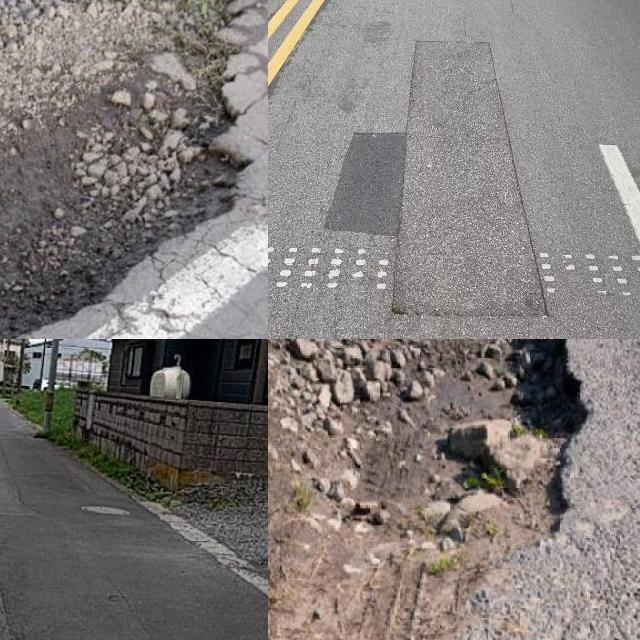Pinggir: (0, 0, 268, 339), (374, 339, 605, 594)
Sambungan: (323, 43, 552, 314), (0, 515, 268, 640), (0, 442, 124, 506)
